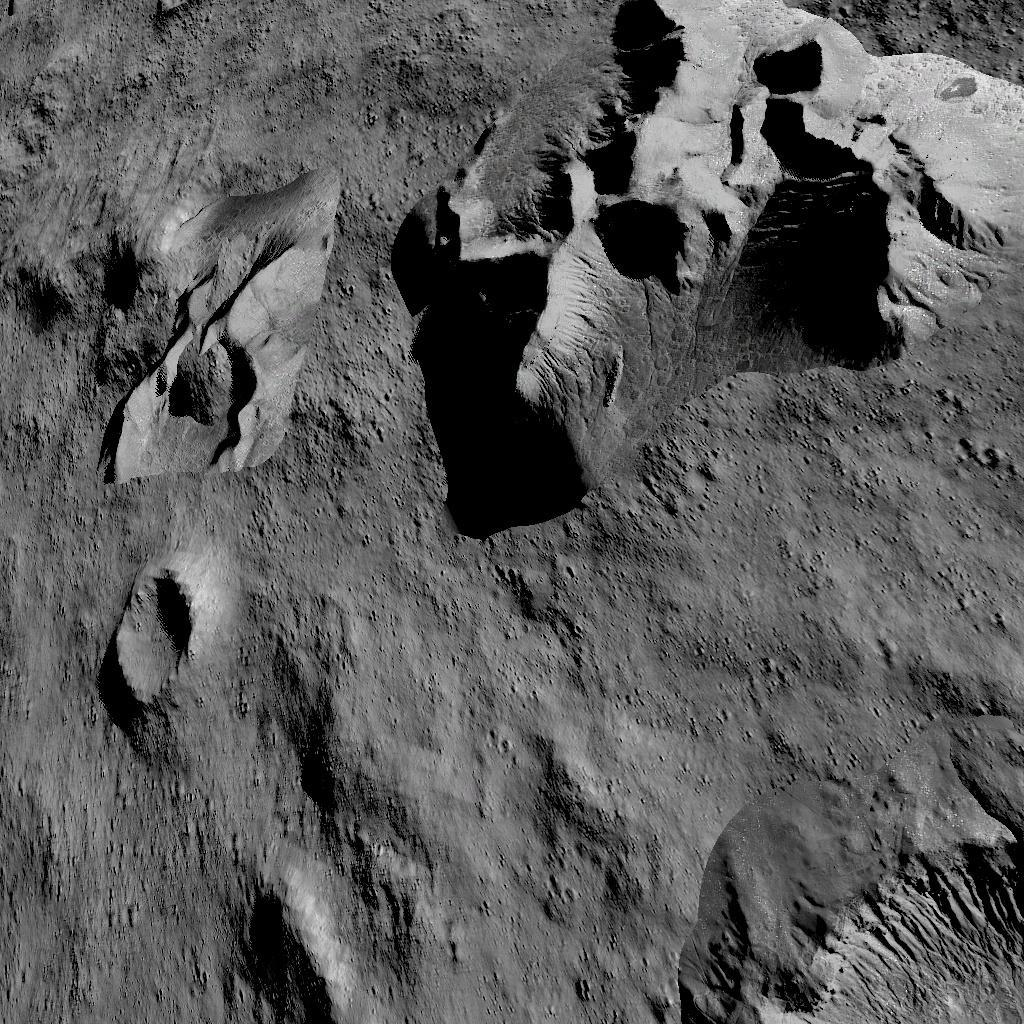Boulders: (357, 0, 1024, 552), (222, 920, 339, 1022)
Crater: (5, 205, 315, 485), (749, 846, 1024, 1024), (70, 548, 232, 761), (266, 732, 352, 831), (128, 0, 209, 53)
Plan surface: (362, 590, 724, 1022), (747, 568, 1024, 818), (13, 781, 198, 1024), (9, 66, 339, 194)
